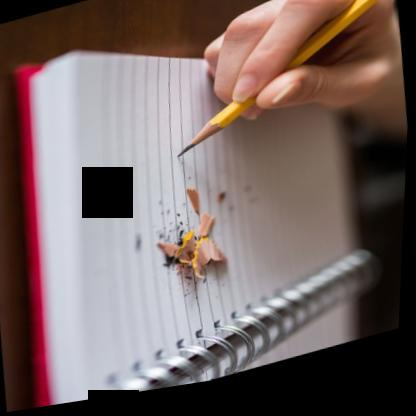pencil: (171, 0, 392, 170)
